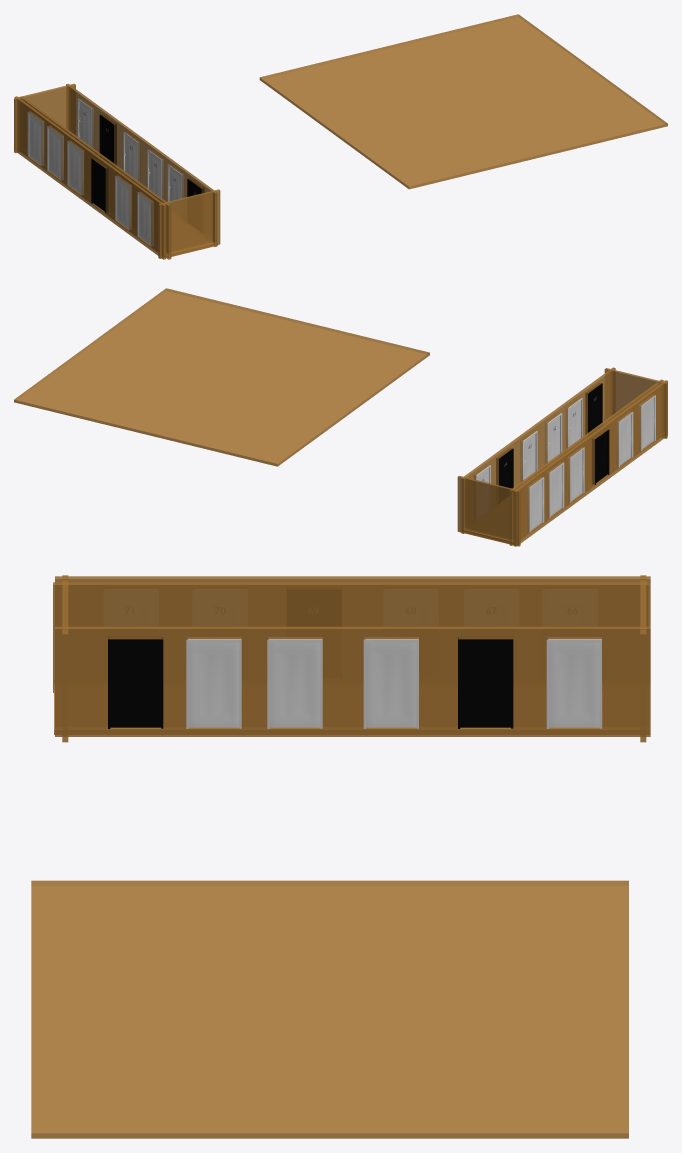
Rendered from coridor.fbx.
The picture shows the model from 3 angles, top to bottom: view 1: azimuth 30°, elevation 25°; view 2: azimuth 150°, elevation 25°; view 3: azimuth 270°, elevation 25°; orthographic projection. The views are drawn at different scales.
Parts seen in each view (by area): view 1: potolok, wall4.004, wall4.001, wall3.008, wall3.007, wall4.002, Locker.011, Locker.014, Locker.012, Locker.010, Locker.013, Locker.006 (+5 smaller); view 2: potolok, wall4.004, wall4.001, wall3.007, wall3.008, wall4.002, Locker.012, Locker.011, Locker.013, Locker.010, Locker.014, Locker.009 (+5 smaller); view 3: potolok, wall4.001, wall4.002, Locker.002, Locker.003, Locker.004, Locker.005, Locker.006, Locker.007, wall4.003, wall4.004, wall3.007 (+1 smaller).
Boxes of the visible parts, x1,y1,x2,y2 form: potolok: (259,14,667,189); wall4.004: (14,96,165,259); wall4.001: (66,83,217,246); wall3.008: (158,189,220,258); wall3.007: (14,83,75,153); wall4.002: (20,96,171,259); Locker.011: (91,158,107,212); Locker.014: (27,112,43,166); Locker.012: (67,141,83,195); Locker.010: (115,176,131,230); Locker.013: (47,126,63,180); Locker.006: (99,114,116,164); potolok: (14,288,429,466); wall4.004: (513,380,667,546); wall4.001: (461,367,615,533); wall3.007: (457,475,520,546); wall3.008: (604,368,667,438); wall4.002: (509,379,663,545); Locker.012: (567,447,584,502); Locker.011: (592,429,609,484); Locker.013: (547,462,564,517); Locker.010: (616,412,633,467); Locker.014: (527,477,544,532); Locker.009: (639,395,655,450); potolok: (31,880,628,1138); wall4.001: (55,626,650,736); wall4.002: (53,582,648,692); Locker.002: (108,637,163,728); Locker.003: (186,637,241,728); Locker.004: (267,637,322,728); Locker.005: (363,637,418,728); Locker.006: (458,637,513,728); Locker.007: (546,637,601,728); wall4.003: (54,681,649,734); wall4.004: (55,576,650,626); wall3.007: (640,575,646,742).
Size of the model in its own units: 4265 by 446 by 2287.
